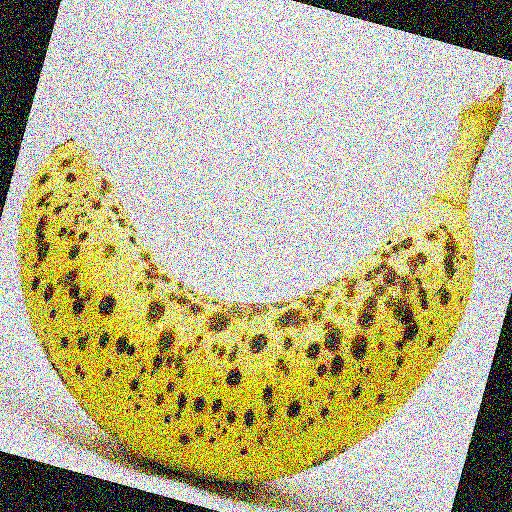fruit: (417, 120, 512, 300)
